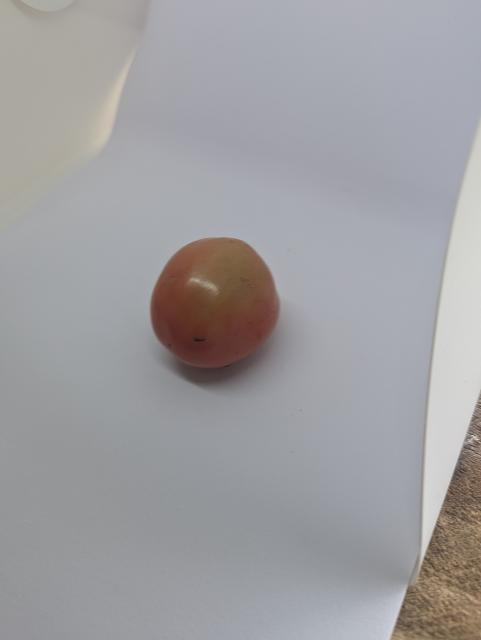turning: (146, 235, 293, 371)
